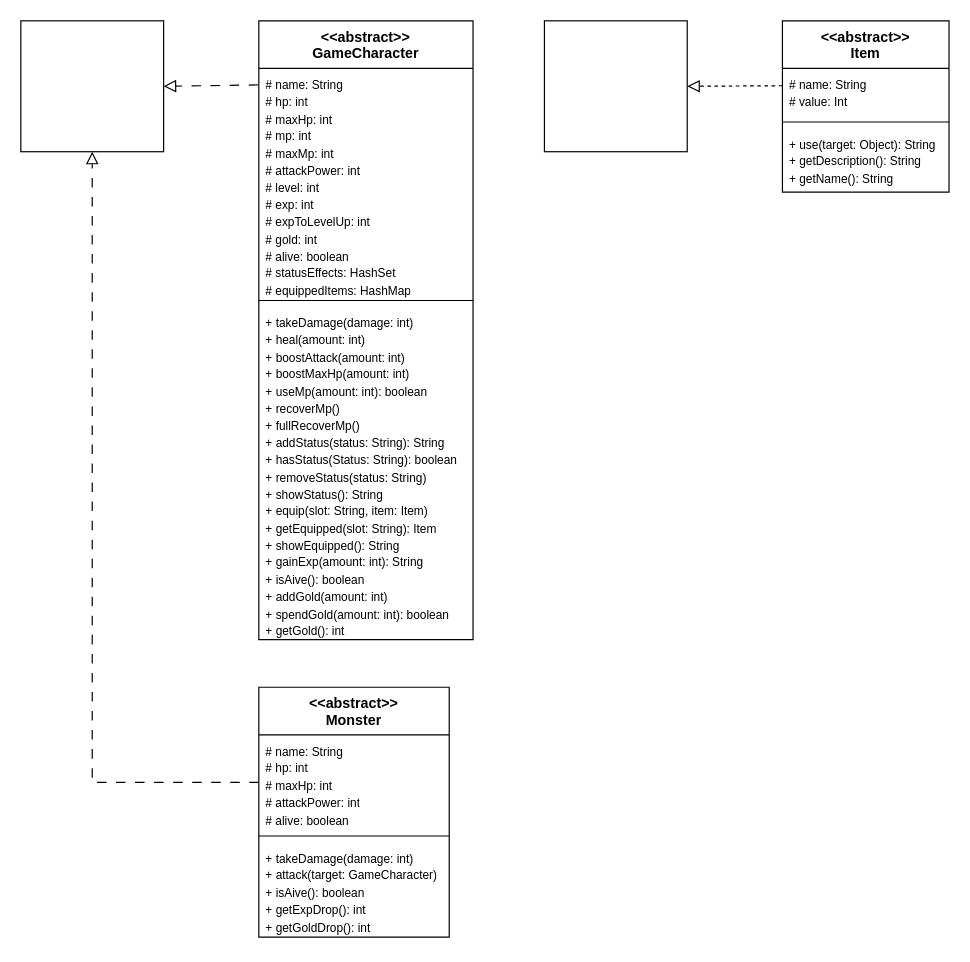
This 970x962 diagram has some shape labels left out. Each missing label, with the centre of its shape:
<< interface >> Attackable + attack(target: Object) + getAttackPower(): int: (92,86)
<< interface >> Usable + use(target: Object) + getDescription(): String: (615,86)
